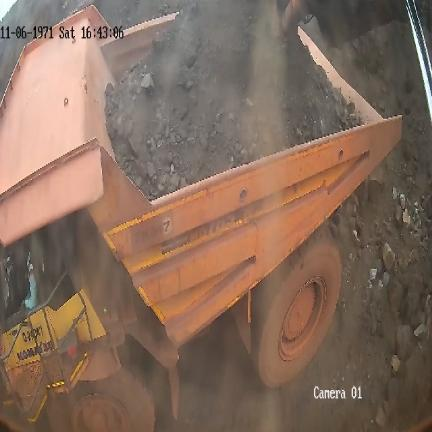pile: (106, 0, 365, 198), (329, 108, 431, 432)
